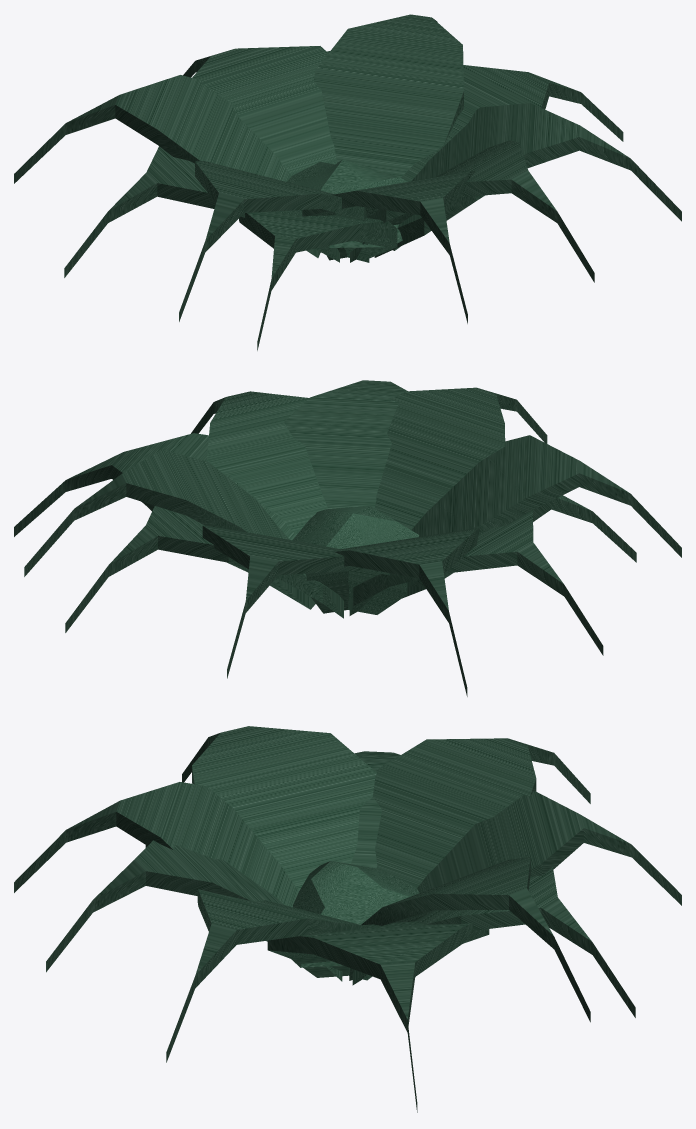
The model's file is fern_4.glb.
3 views of the same model, one above another, from view 1: azimuth 30°, elevation 25°; view 2: azimuth 150°, elevation 25°; view 3: azimuth 270°, elevation 25° (orthographic). The views are drawn at different scales.
Parts seen in each view (by area): view 1: fern_4; view 2: fern_4; view 3: fern_4.
Boxes of the visible parts, x1,y1,x2,y2 form: fern_4: (14,14,681,350); fern_4: (14,380,681,696); fern_4: (14,726,681,1112).
Bounding box in the file's own units: 2.05 × 0.4725 × 1.92.
Materials: 1 (1 with a texture image).
